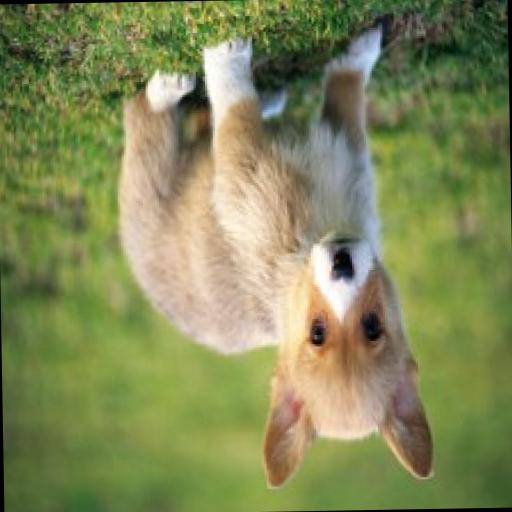dog: (121, 31, 444, 494)
